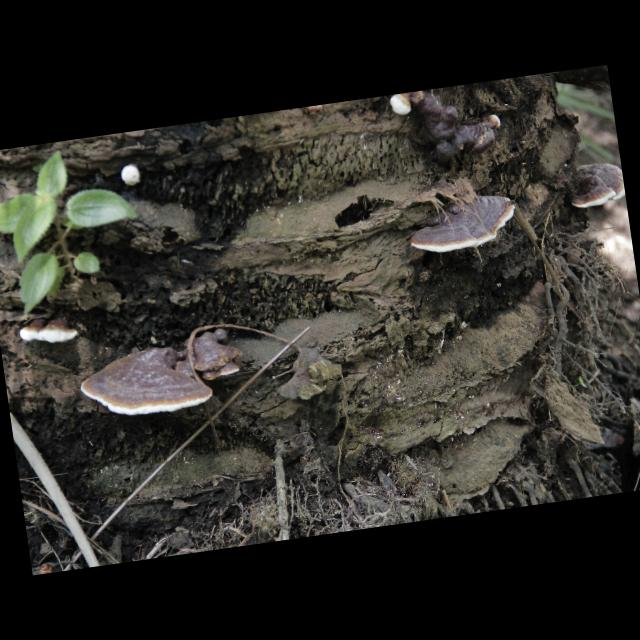ganoderma: (78, 342, 217, 427), (406, 188, 522, 258), (412, 83, 500, 173), (183, 326, 248, 386), (567, 160, 628, 211), (20, 314, 81, 350)
primordium: (390, 93, 415, 118), (120, 163, 144, 189), (488, 115, 503, 132)
